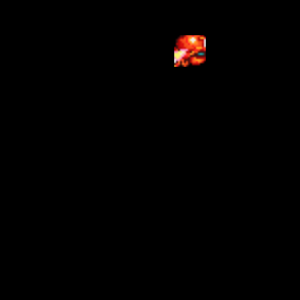Enemy: (174, 35, 206, 67)
